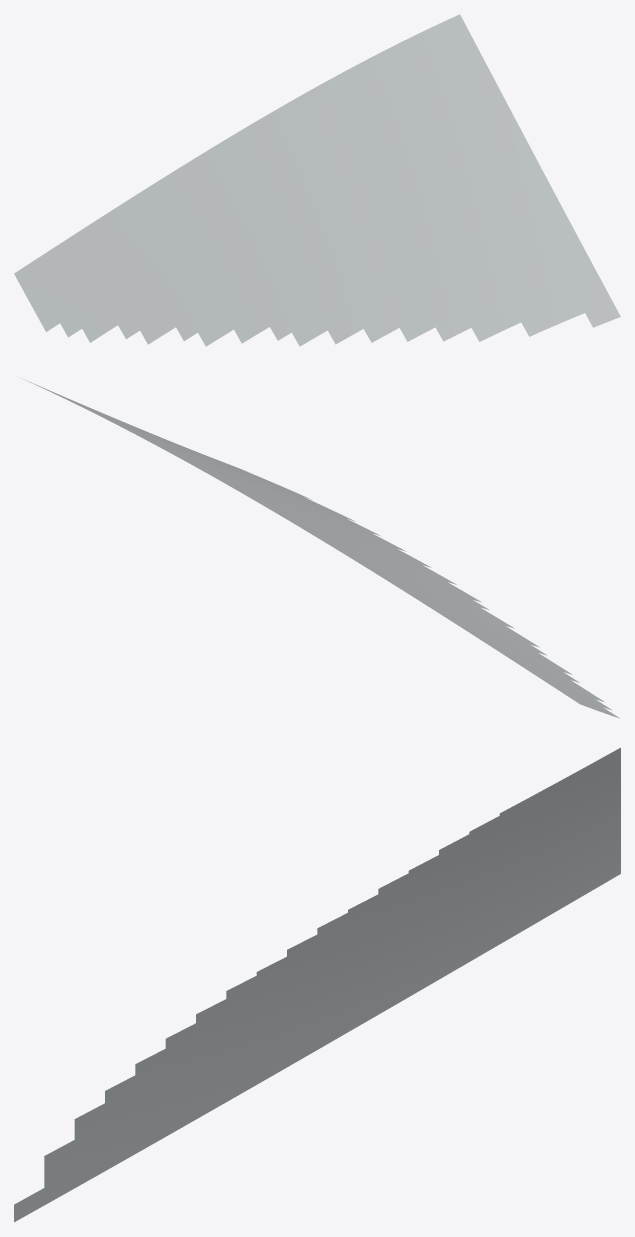
File: alpine-7-9.glb
The picture shows the model from 3 angles, top to bottom: view 1: azimuth 30°, elevation 25°; view 2: azimuth 150°, elevation 25°; view 3: azimuth 270°, elevation 25°; orthographic projection. The views are drawn at different scales.
Parts seen in each view (by area): view 1: alpine-7-9; view 2: alpine-7-9; view 3: alpine-7-9.
Boxes of the visible parts, bbox=[...] form: alpine-7-9: bbox=[14, 14, 620, 346]; alpine-7-9: bbox=[21, 378, 619, 718]; alpine-7-9: bbox=[14, 747, 620, 1222].
Size of the model in its own units: 256 by 105 by 160.
1 material, 1 textured.
